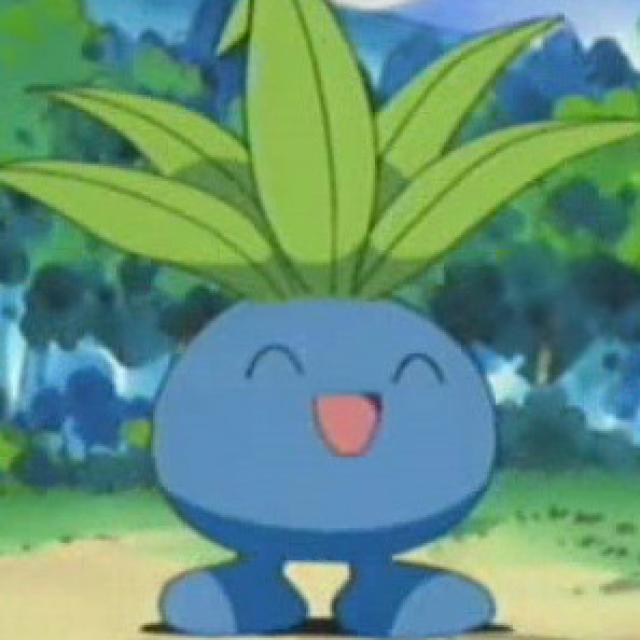Oddish: (150, 138, 496, 632)
